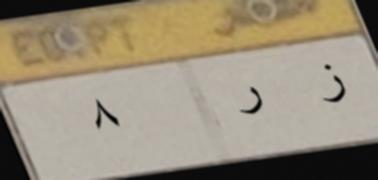8: (82, 94, 123, 139)
raa: (232, 76, 270, 124)
zay: (316, 60, 348, 114)
